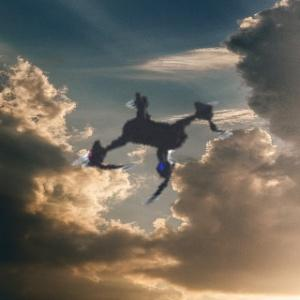drone: (18, 1, 292, 275)
